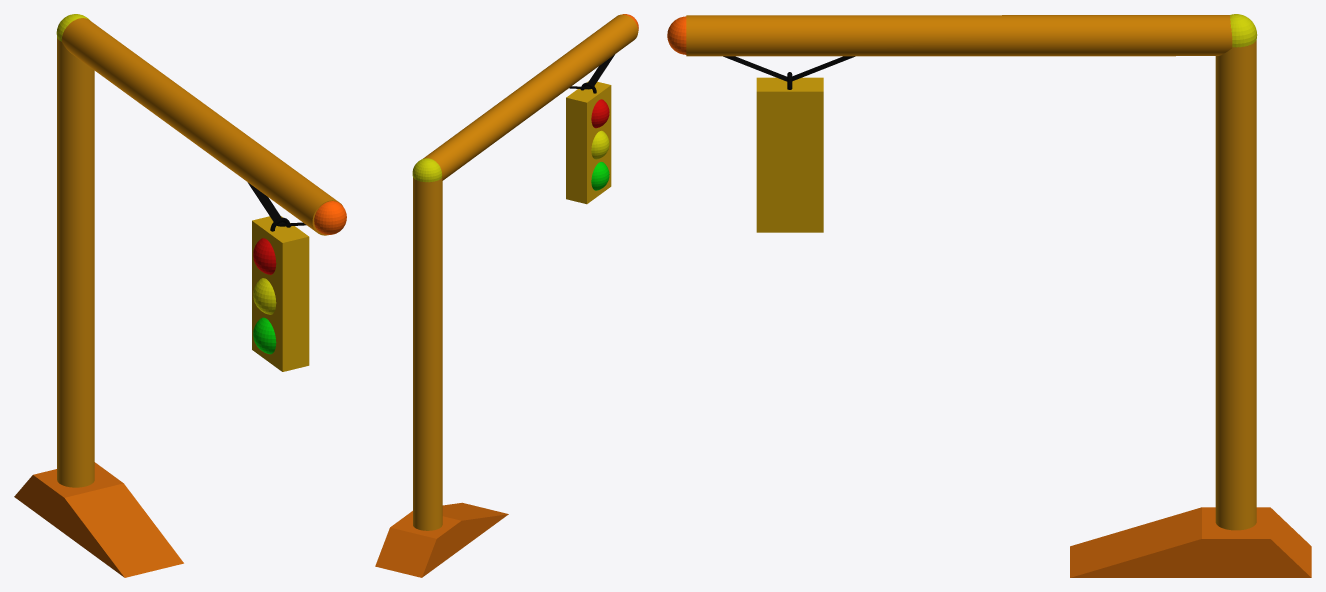
File: Semaforo.obj
The picture shows the model from 3 angles, left to right: view 1: azimuth 30°, elevation 25°; view 2: azimuth 150°, elevation 25°; view 3: azimuth 270°, elevation 25°; orthographic projection. The views are drawn at different scales.
Parts seen in each view (by area): view 1: Cylinder, Cylinder.001, Cube, Cube.001, Sphere.001, Sphere.004, Sphere.002, Sphere.003, Torus.002; view 2: Cylinder, Cylinder.001, Cube, Cube.001, Sphere, Sphere.003, Sphere.004, Sphere.002; view 3: Cylinder.001, Cylinder, Cube, Cube.001.
Boxes of the visible parts, x1,y1,x2,y2 form: Cylinder: (57, 38, 94, 487); Cylinder.001: (62, 18, 342, 235); Cube: (14, 462, 183, 577); Cube.001: (252, 216, 309, 371); Sphere.001: (314, 201, 346, 234); Sphere.004: (253, 317, 276, 354); Sphere.002: (253, 238, 276, 274); Sphere.003: (253, 278, 276, 314); Torus.002: (247, 182, 306, 226); Cylinder: (413, 177, 442, 530); Cylinder.001: (423, 14, 638, 180); Cube: (375, 502, 508, 577); Cube.001: (566, 81, 611, 204); Sphere: (412, 158, 441, 182); Sphere.003: (591, 130, 609, 159); Sphere.004: (591, 162, 609, 190); Sphere.002: (591, 99, 609, 128); Cylinder.001: (686, 15, 1232, 56); Cylinder: (1215, 40, 1256, 530); Cube: (1070, 507, 1311, 577); Cube.001: (756, 77, 823, 232).
Size of the model in its own units: 0.9829 by 7.9 by 8.46.
